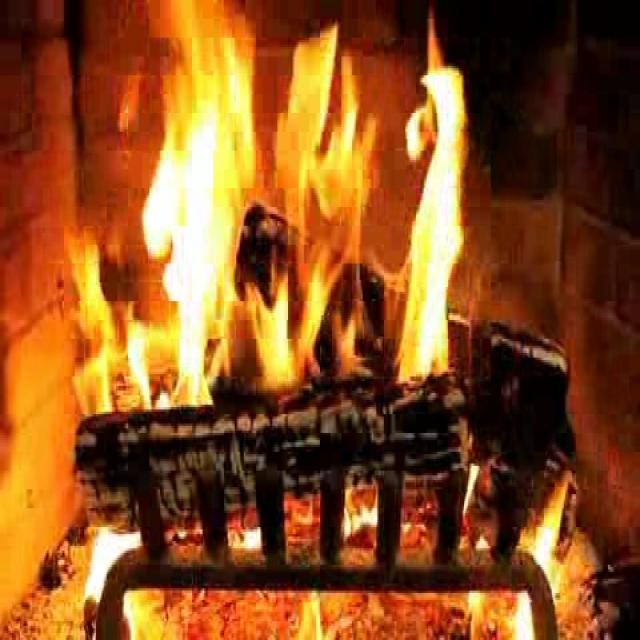fire: (120, 7, 482, 412)
